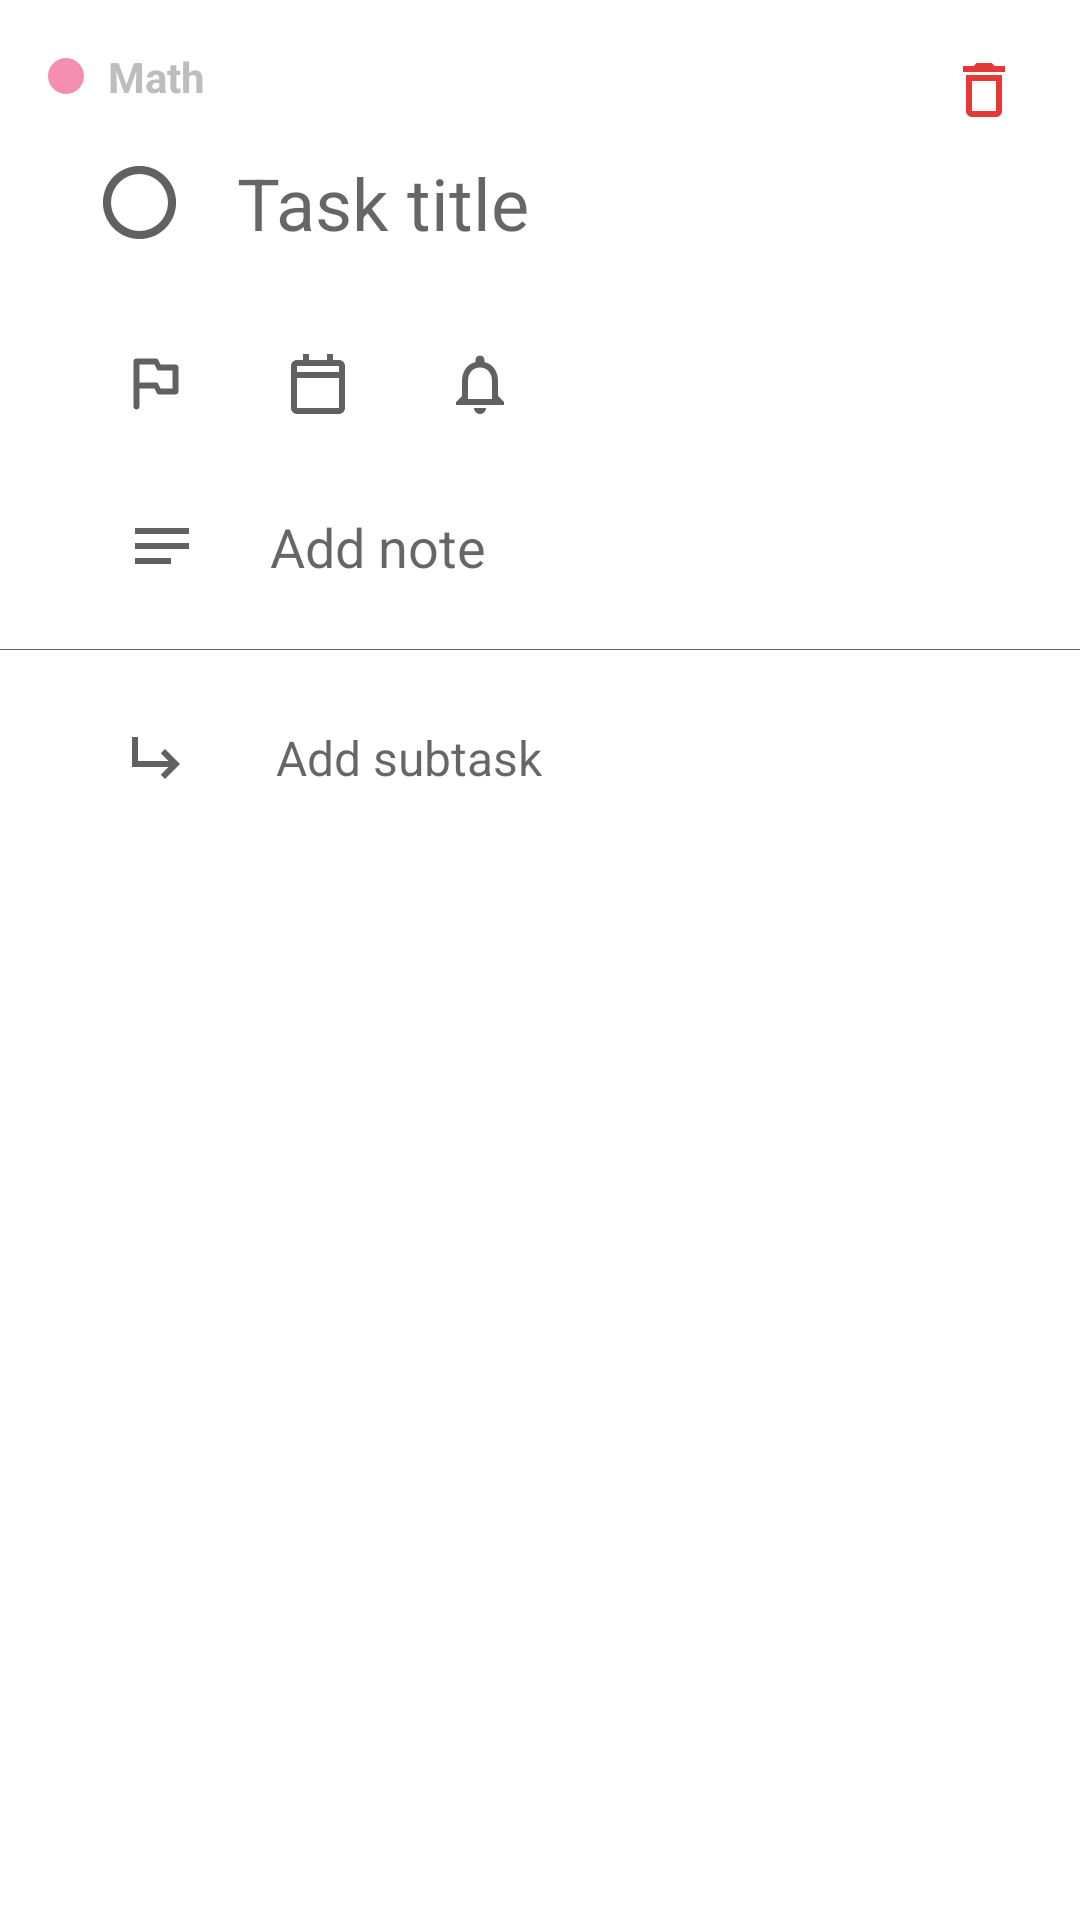

Where to tap for icons on this 1080×1920 app screen, as [x,y]:
add date: [318,384]
delete: [984,90]
flag: [156,384]
notifications none: [480,384]
sub right: [156,758]
